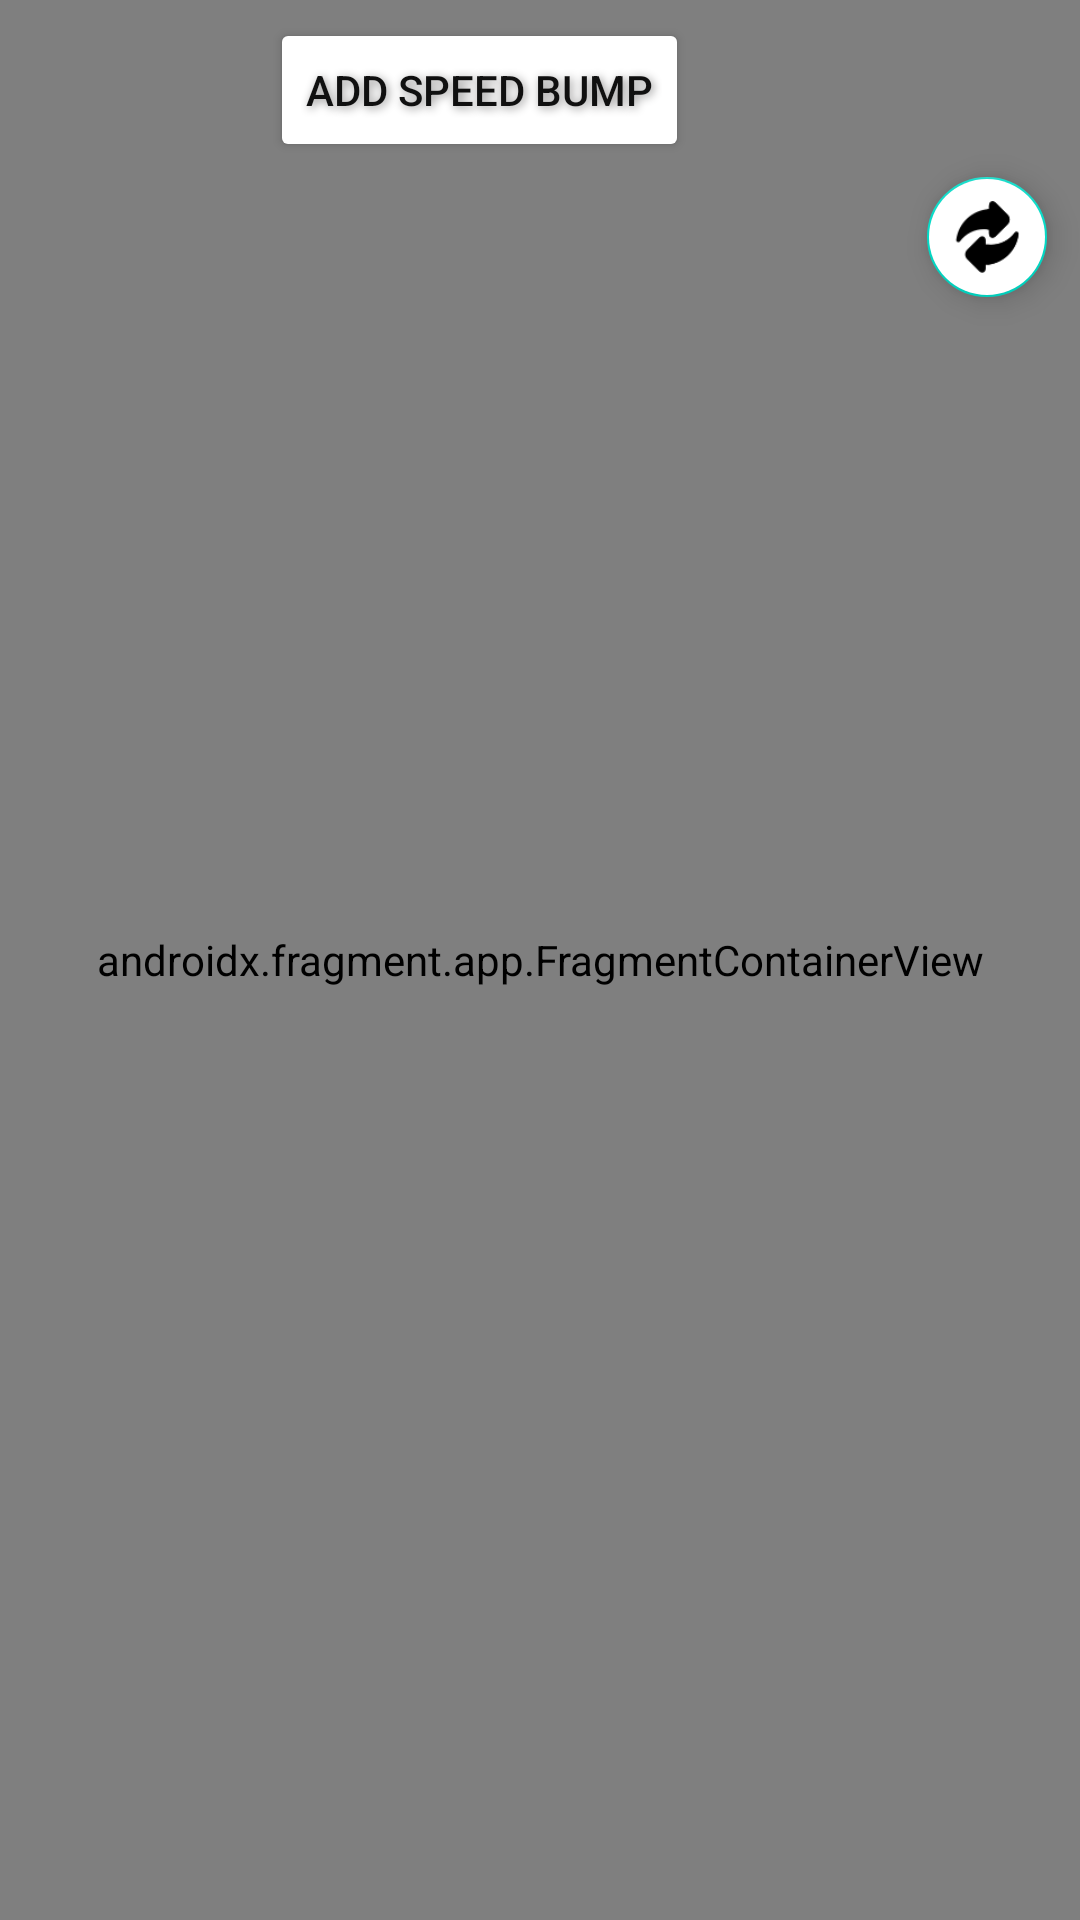

Icon bounding boxes for this 1080×1920 phone screenshot, format (x1, y1, x2, y2):
mapexchangeicom: (927, 177, 1047, 297)
